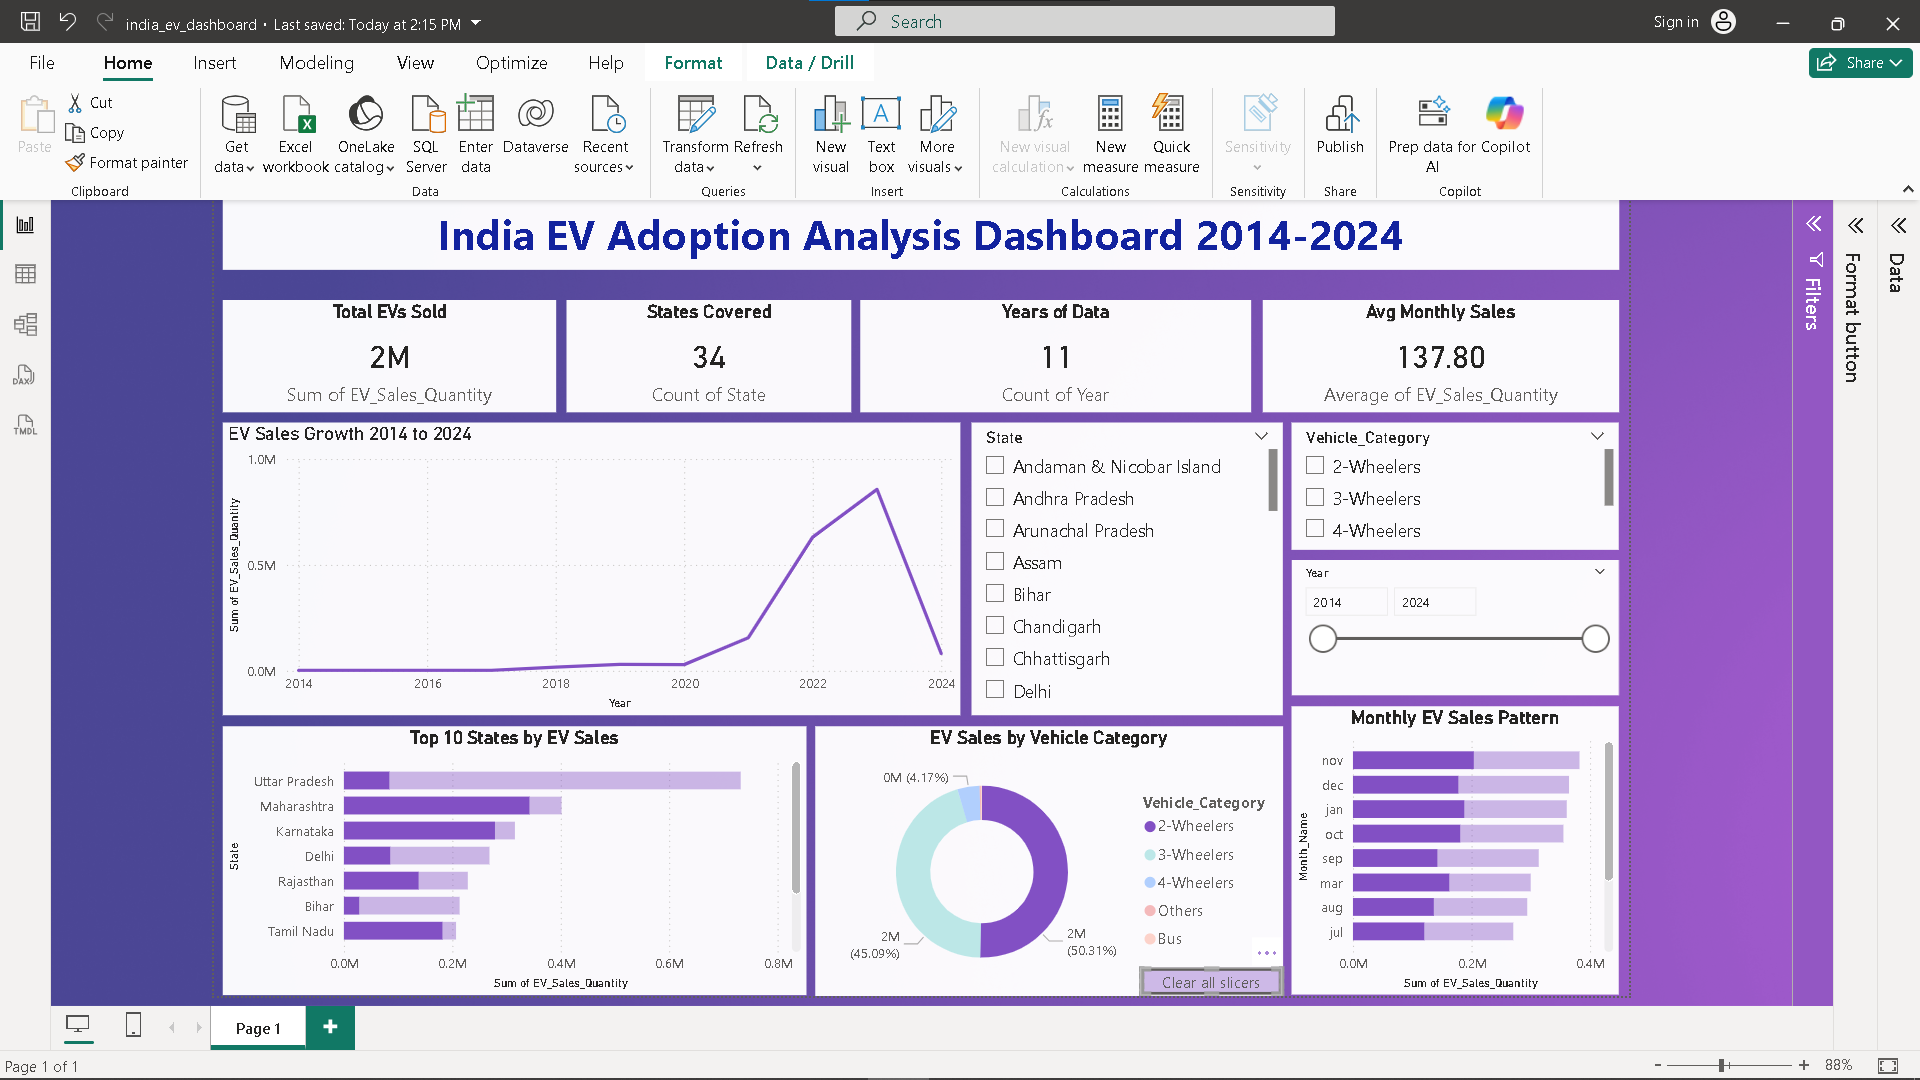

The page's visual inventory and layout, read from the dashboard file:
{"tool":"powerbi","page":{"name":"Page 1","canvas":[1280,720],"ordinal":0},"visuals":[{"type":"card","title":"Total EVs Sold","fields":{"Values":["Sum(EV_Dataset.EV_Sales_Quantity)"]},"box":[7.9,90.5,301.9,101.8],"z":0},{"type":"card","title":"States Covered","fields":{"Values":["Count(EV_Dataset.State)"]},"box":[318.8,90.5,257.8,101.8],"z":1},{"type":"card","title":"Years of Data","fields":{"Values":["Count(EV_Dataset.Year)"]},"box":[584.6,90.5,353.9,101.8],"z":2},{"type":"card","title":"Avg Monthly Sales","fields":{"Values":["Avg(EV_Dataset.EV_Sales_Quantity)"]},"box":[948.6,90.5,322.2,101.8],"z":3},{"type":"lineChart","title":"EV Sales Growth 2014 to 2024","fields":{"Category":["EV_Dataset.Year"],"Y":["Sum(EV_Dataset.EV_Sales_Quantity)"]},"box":[7.9,201.3,667.1,264.6],"z":4},{"type":"barChart","title":"Top 10 States by EV Sales","fields":{"Category":["EV_Dataset.State"],"Y":["Sum(EV_Dataset.EV_Sales_Quantity)"]},"box":[7.9,476,528,243.1],"z":5},{"type":"textbox","box":[7.9,0,1262.9,63.3],"z":6},{"type":"donutChart","title":"EV Sales by Vehicle Category","fields":{"Category":["EV_Dataset.Vehicle_Category"],"Y":["Sum(EV_Dataset.EV_Sales_Quantity)"]},"box":[543.8,476,422.9,244.2],"z":7},{"type":"barChart","title":"Monthly EV Sales Pattern","fields":{"Category":["EV_Dataset.Month_Name"],"Y":["Sum(EV_Dataset.EV_Sales_Quantity)"]},"box":[974.6,457.9,296.2,261.2],"z":8},{"type":"slicer","fields":{"Values":["EV_Dataset.Year"]},"box":[974.6,325.6,296.2,122.1],"z":9},{"type":"slicer","fields":{"Values":["EV_Dataset.Vehicle_Category"]},"box":[974.6,201.3,296.2,115.3],"z":10},{"type":"slicer","fields":{"Values":["EV_Dataset.State"]},"box":[685.2,201.3,281.5,264.6],"z":11},{"type":"actionButton","box":[838.2,694.5,128.3,25.1],"z":12}]}

Visuals, with their boxes on the page's 1280x720 design canvas (x1, y1, x2, y2). These are canvas units, not pixel positions in the 1920x1080 screenshot, which may show the page scaled, cropped or inside an application window:
"Total EVs Sold" card: select_region(8, 90, 310, 192)
"States Covered" card: select_region(319, 90, 577, 192)
"Years of Data" card: select_region(585, 90, 938, 192)
"Avg Monthly Sales" card: select_region(949, 90, 1271, 192)
"EV Sales Growth 2014 to 2024" lineChart: select_region(8, 201, 675, 466)
"Top 10 States by EV Sales" barChart: select_region(8, 476, 536, 719)
textbox: select_region(8, 0, 1271, 63)
"EV Sales by Vehicle Category" donutChart: select_region(544, 476, 967, 720)
"Monthly EV Sales Pattern" barChart: select_region(975, 458, 1271, 719)
slicer - EV_Dataset.Year: select_region(975, 326, 1271, 448)
slicer - EV_Dataset.Vehicle_Category: select_region(975, 201, 1271, 317)
slicer - EV_Dataset.State: select_region(685, 201, 967, 466)
actionButton: select_region(838, 694, 966, 720)
